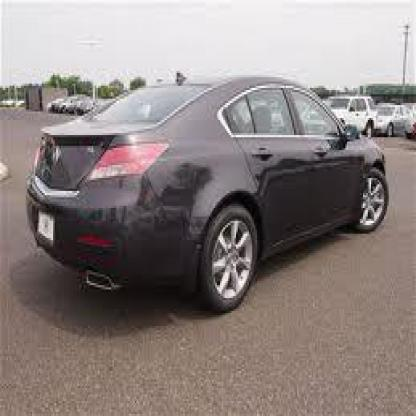Vehicle: (16, 51, 408, 339)
